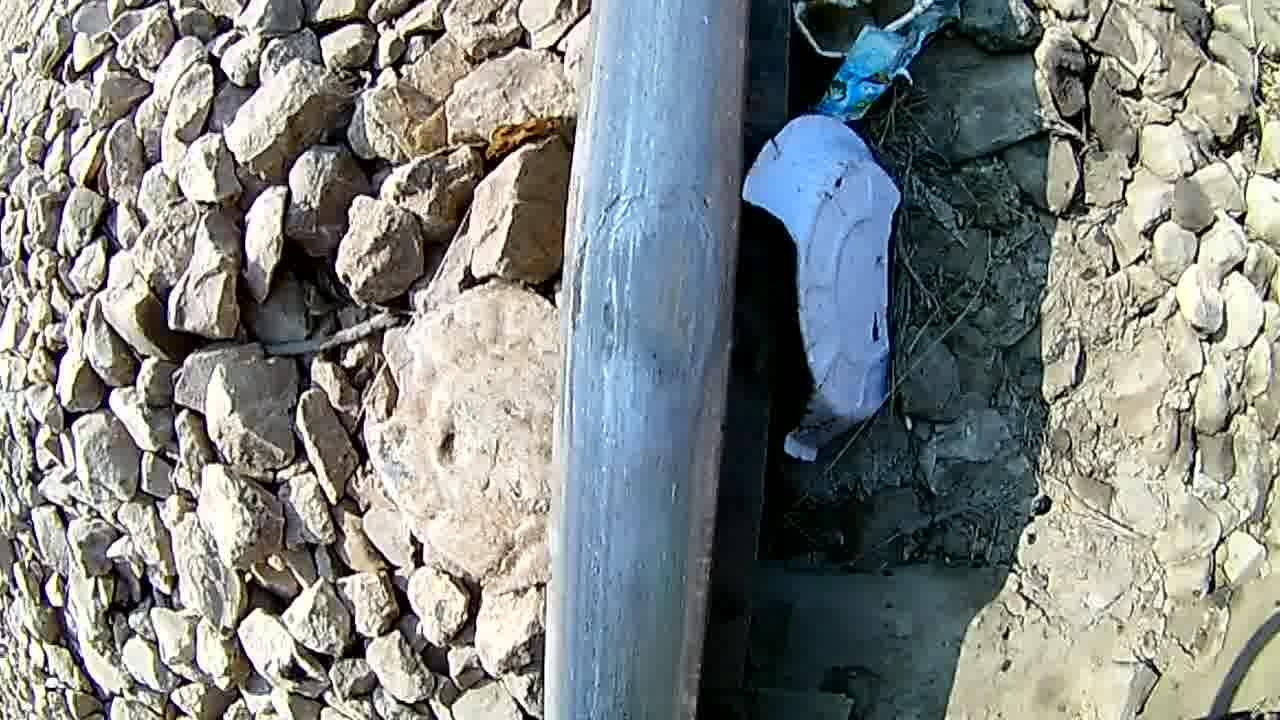bolt_missing: (539, 170, 747, 440)
